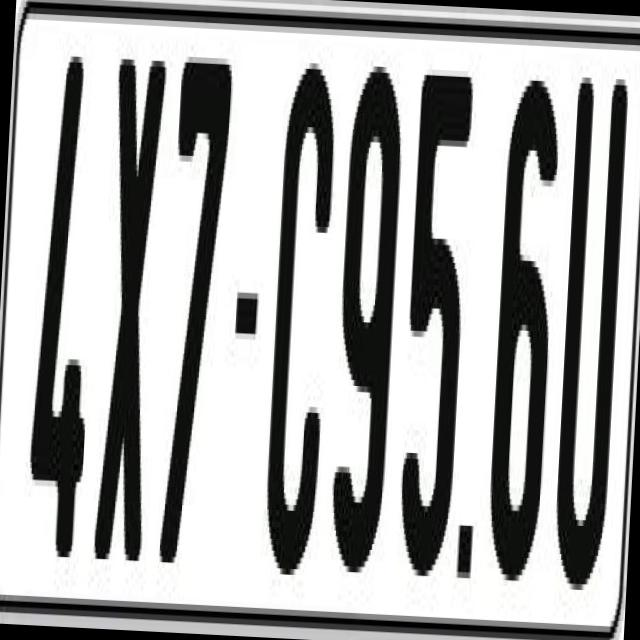4: (20, 38, 104, 570)
5: (393, 57, 476, 589)
6: (486, 62, 572, 576)
7: (153, 44, 230, 547)
9: (328, 59, 408, 586)
C: (264, 57, 340, 564)
U: (551, 66, 630, 614)
X: (90, 41, 168, 579)
